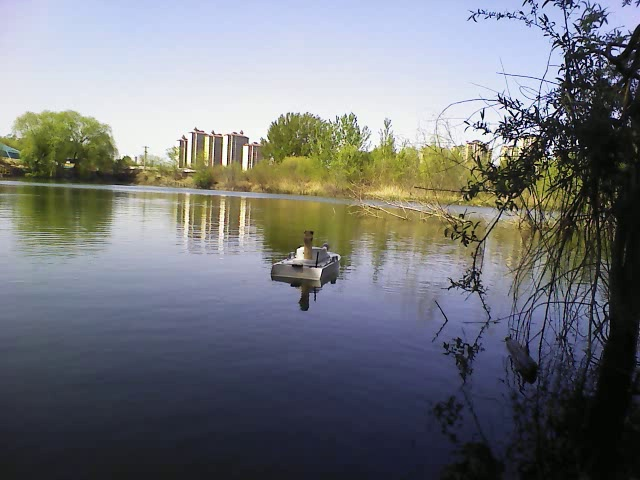boat: (270, 243, 346, 283)
